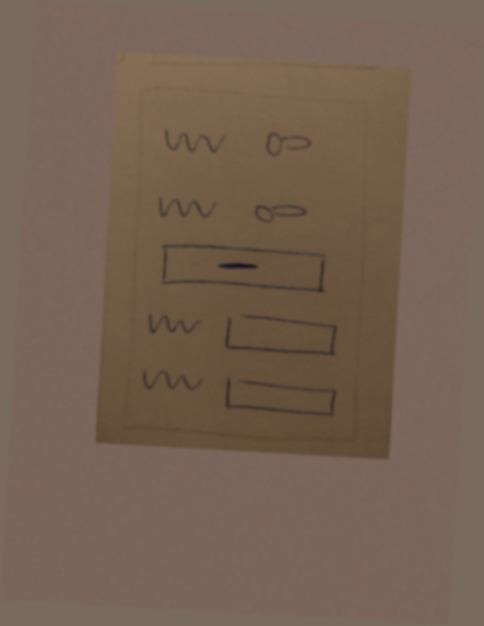button: (155, 237, 331, 299)
switch: (247, 193, 313, 228), (257, 126, 318, 162)
text: (155, 120, 236, 162), (149, 188, 222, 228), (136, 359, 207, 397), (142, 305, 206, 338)
text_input: (221, 307, 346, 366), (219, 371, 345, 425)
